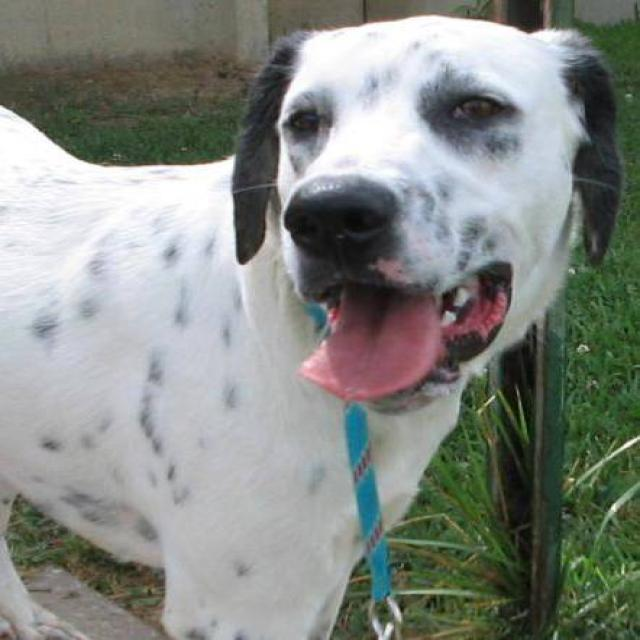Dog: (201, 0, 640, 419)
